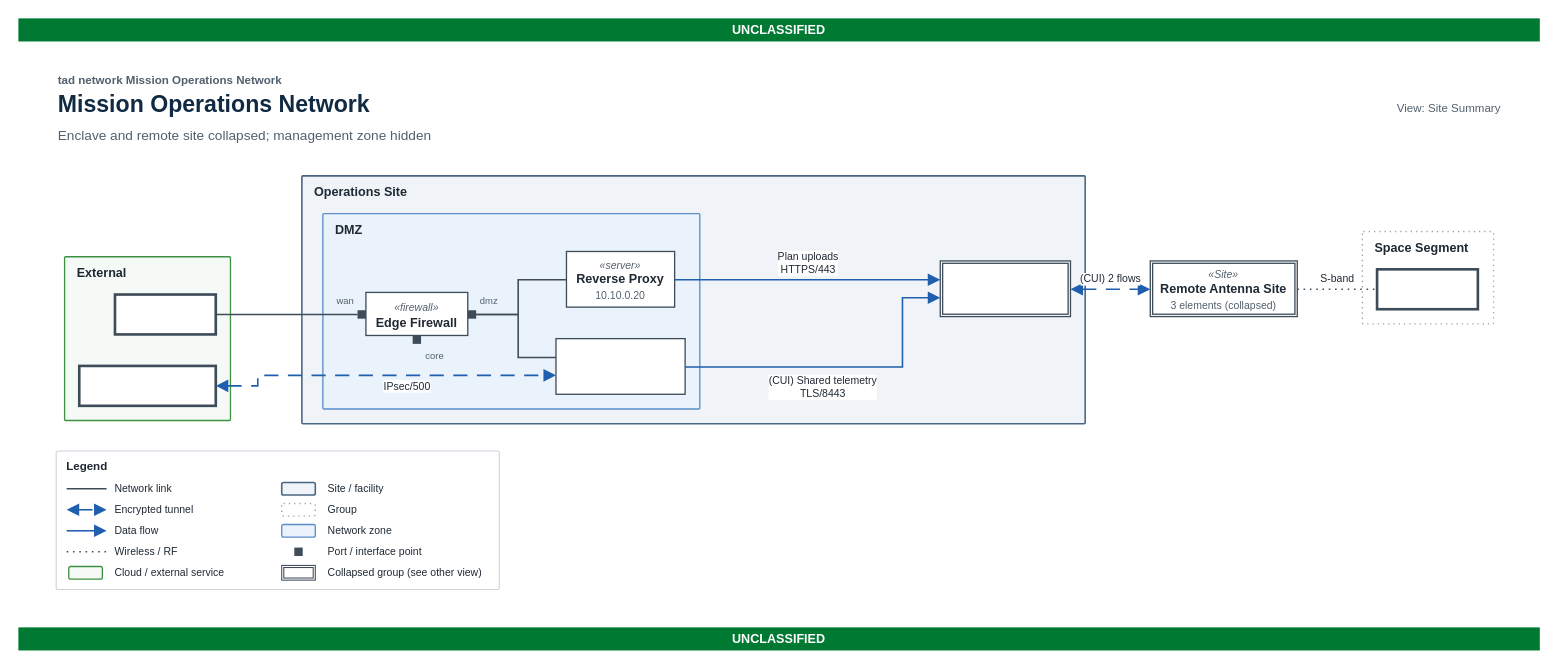
The diagram is 1557 pixels wide and 668 high, and some of its shapes have lost their labels. The shapes that lost their labels are listed below. From the top down, each one's centre as x and y in pixels, then its label:
At point 1005,288: "«Enclave» (CUI) Ops Enclave 8 elements (collapsed)".
At point 1427,289: "Spacecraft".
At point 165,314: "Internet".
At point 147,385: "Partner Ops Center".
At point 620,365: "«appliance» VPN Concentrator 10.10.0.5".
